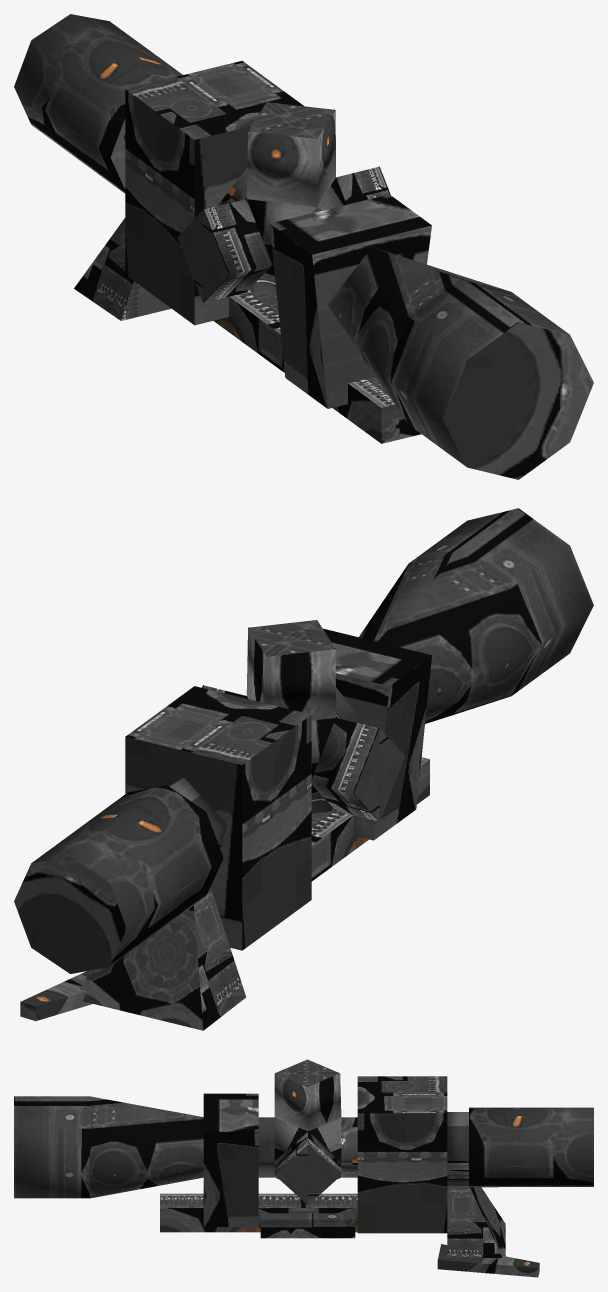
Rendered from Sniper_Rifle_jjq_jmj_01_lod2_Sniper_Scope_LOD_(000116).glb.
3 views of the same model, one above another, from view 1: azimuth 30°, elevation 25°; view 2: azimuth 150°, elevation 25°; view 3: azimuth 270°, elevation 25° (orthographic). The views are drawn at different scales.
Parts seen in each view (by area): view 1: jjq_jmj_01_lod2; view 2: jjq_jmj_01_lod2; view 3: jjq_jmj_01_lod2.
Part boxes in pixels (bbox=[...]): jjq_jmj_01_lod2: bbox=[14, 14, 593, 479]; jjq_jmj_01_lod2: bbox=[14, 508, 593, 1030]; jjq_jmj_01_lod2: bbox=[14, 1059, 593, 1277].
Bounding box in the file's own units: 0.1036 × 0.1479 × 0.443.
1 material, 1 textured.
